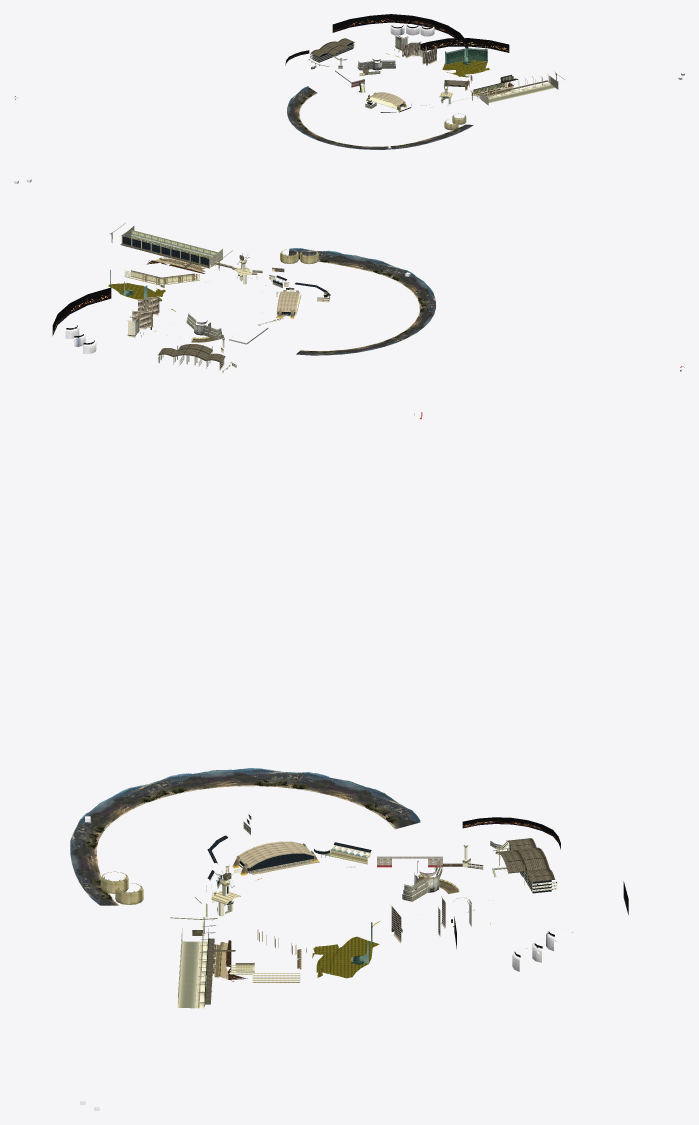
File: track-B2_C2_V2_env.glb
3 views of the same model, one above another, from view 1: azimuth 30°, elevation 25°; view 2: azimuth 150°, elevation 25°; view 3: azimuth 270°, elevation 25° (orthographic). The views are drawn at different scales.
Parts seen in each view (by area): view 1: B2_C2_V2_env; view 2: B2_C2_V2_env; view 3: B2_C2_V2_env.
Boxes of the visible parts, box(x1,y1,x2,y2) form: B2_C2_V2_env: box(14, 14, 684, 149); B2_C2_V2_env: box(14, 178, 684, 372); B2_C2_V2_env: box(70, 412, 628, 1110).
Bounding box in the file's own units: 4799 × 508 × 1968.
87 materials, 86 textured.
